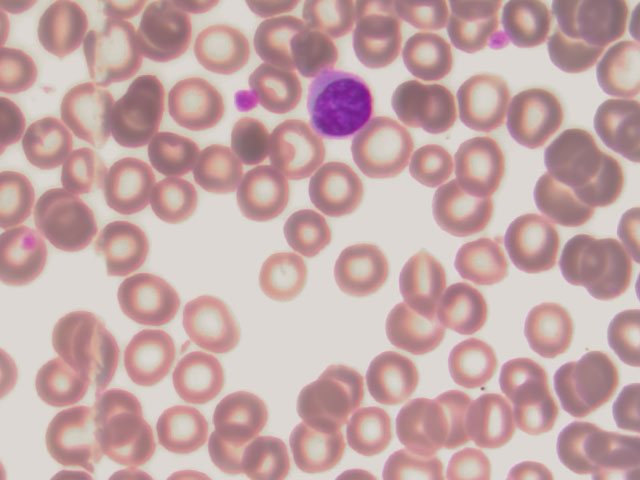Platelets: (482, 30, 514, 54), (231, 87, 257, 114)
RBC: (104, 418, 160, 480), (237, 418, 293, 480), (286, 418, 342, 480), (550, 418, 606, 480), (19, 114, 75, 175), (58, 83, 114, 144), (116, 68, 172, 129), (101, 95, 157, 156), (168, 74, 224, 135), (194, 19, 250, 80), (137, 2, 193, 63), (88, 18, 144, 79), (146, 118, 202, 179), (184, 137, 240, 198), (147, 172, 203, 233), (106, 157, 162, 218), (58, 140, 114, 201), (41, 191, 97, 252), (96, 217, 152, 278), (118, 269, 174, 330), (181, 292, 237, 353), (125, 325, 181, 386), (79, 330, 135, 391), (53, 307, 109, 368), (35, 350, 91, 411), (41, 405, 97, 466), (87, 384, 143, 445), (150, 401, 206, 462), (207, 384, 263, 445), (173, 348, 229, 409), (291, 372, 347, 433), (312, 358, 368, 419), (357, 351, 413, 412), (388, 302, 444, 363), (394, 255, 450, 316), (333, 240, 389, 301), (259, 247, 315, 308), (280, 206, 336, 267), (237, 162, 293, 223), (220, 111, 276, 172), (262, 119, 318, 180), (251, 59, 307, 120), (250, 13, 306, 74), (289, 20, 345, 81), (349, 13, 405, 74), (402, 25, 458, 86), (381, 71, 437, 132), (361, 124, 417, 185), (312, 159, 368, 220), (408, 134, 464, 195), (441, 133, 497, 194), (435, 181, 491, 242), (455, 74, 511, 135), (500, 87, 556, 148), (540, 115, 596, 176), (567, 146, 623, 207), (530, 175, 586, 236), (506, 210, 562, 271), (460, 227, 516, 288), (438, 273, 494, 334), (451, 327, 507, 388), (434, 393, 490, 454), (400, 395, 456, 456), (337, 397, 393, 458), (471, 393, 527, 454), (511, 382, 567, 443), (501, 350, 557, 411), (527, 297, 583, 358), (573, 347, 629, 408), (549, 362, 605, 423), (584, 236, 640, 297), (559, 224, 615, 285), (584, 86, 640, 147), (584, 34, 640, 95), (548, 17, 604, 78), (34, 1, 90, 61), (569, 1, 625, 61), (505, 1, 561, 61), (1, 227, 56, 288)
WBC: (305, 71, 374, 134)
